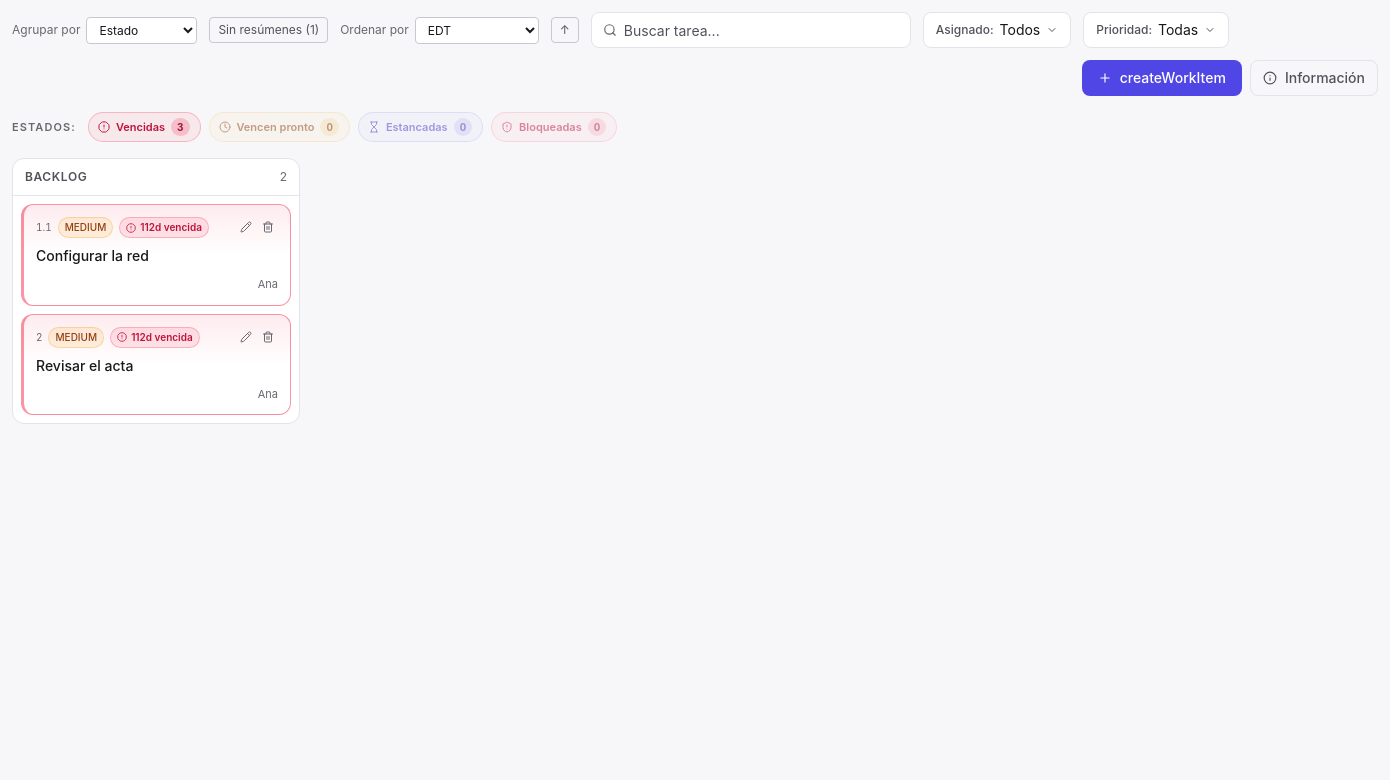
Test: §5.3 · por omisión, solo hojas e hitos › encenderlo las trae de vuelta
Click the button with test id "conmutador-resumenes".
click(269, 30)  # box [209,17,328,43]
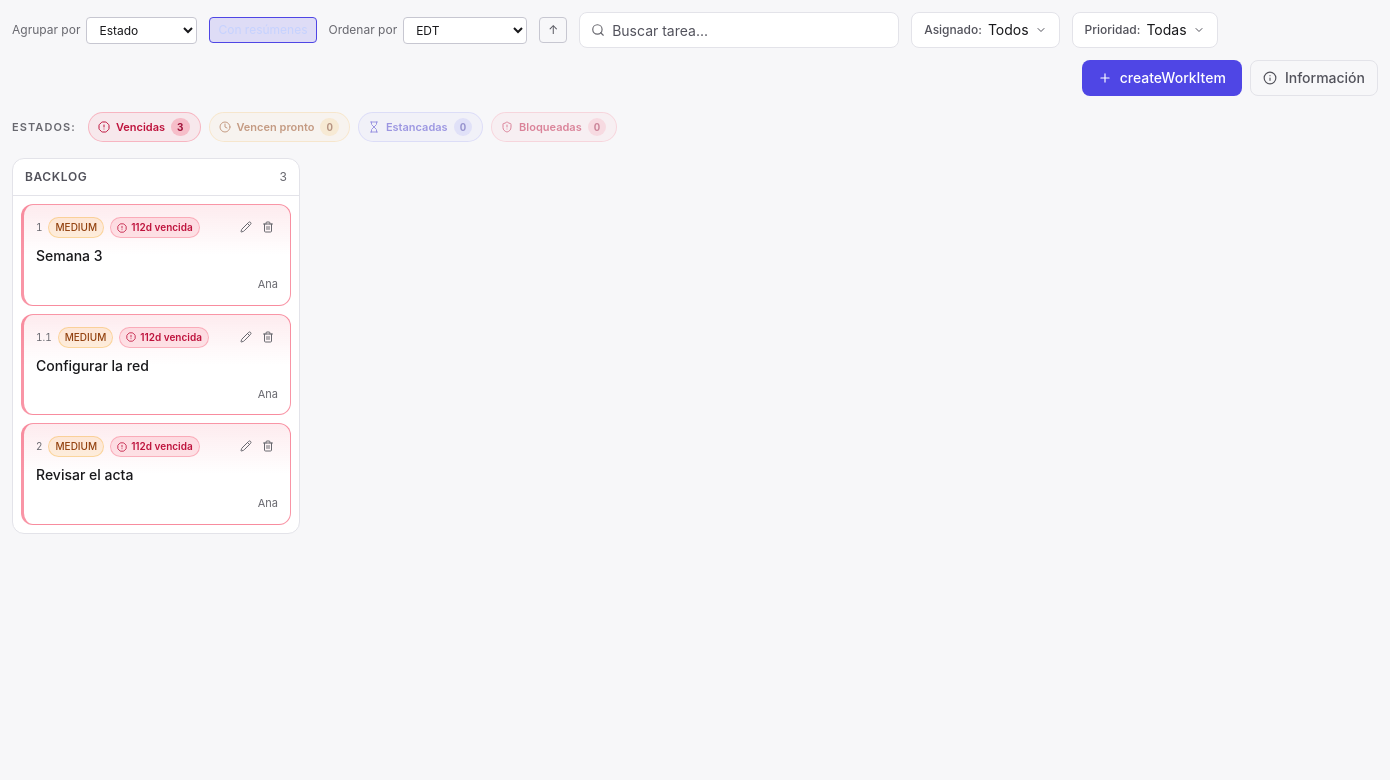
expect the button "Semana 3" is shown: met, box [36,246,102,266]
